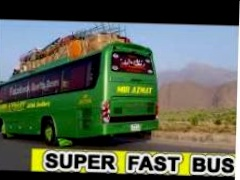bus: (0, 33, 161, 149)
